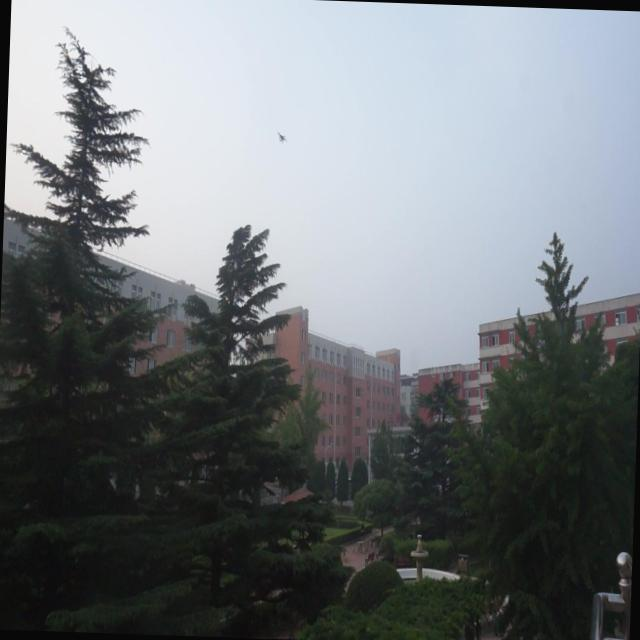drone: (274, 129, 290, 146)
